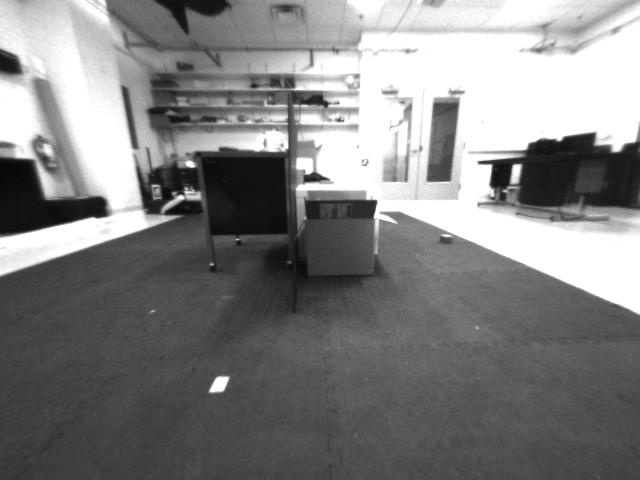dogtoy: (437, 223, 457, 253)
